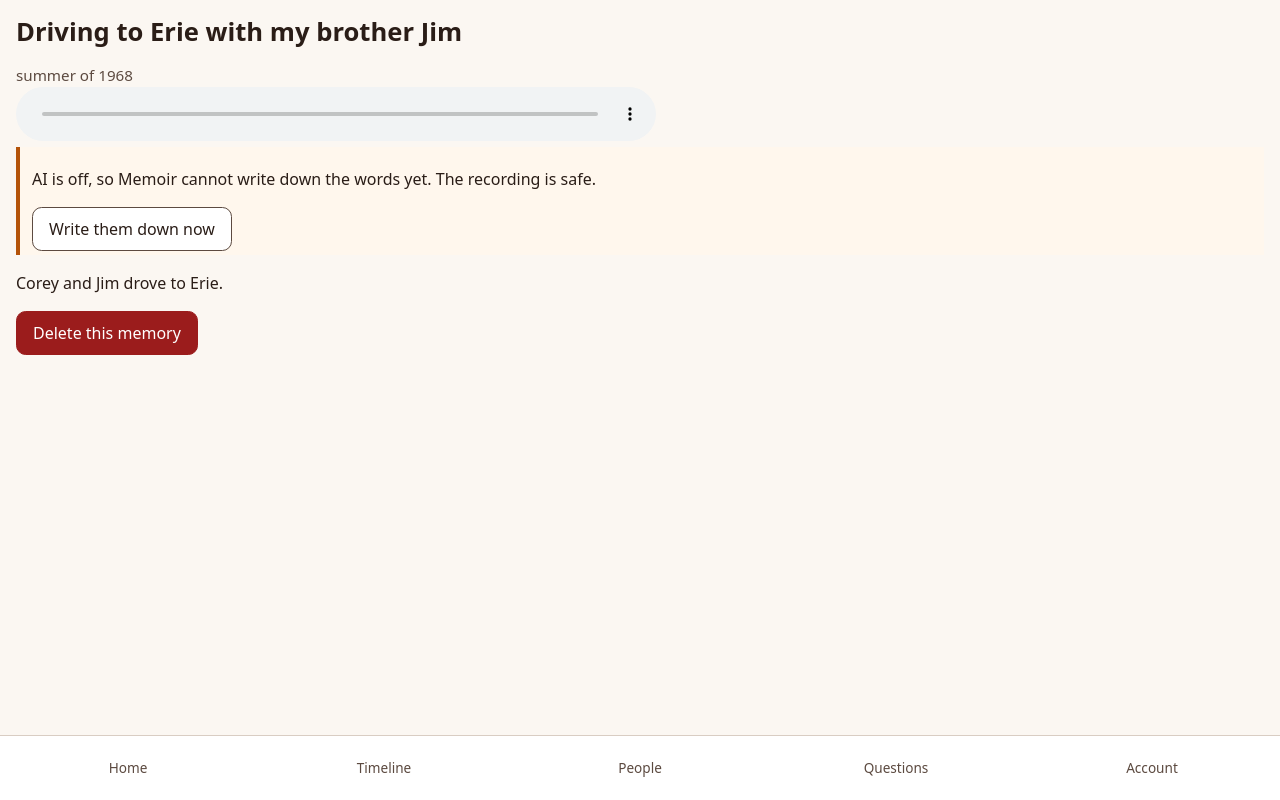
Test: with AI off it says the recording is safe and can run later
Expected: the text "AI is off" shows "The recording is safe.", [32, 168, 596, 190]
Click the button "Write them down now".
click(132, 229)  # box [32, 207, 232, 251]
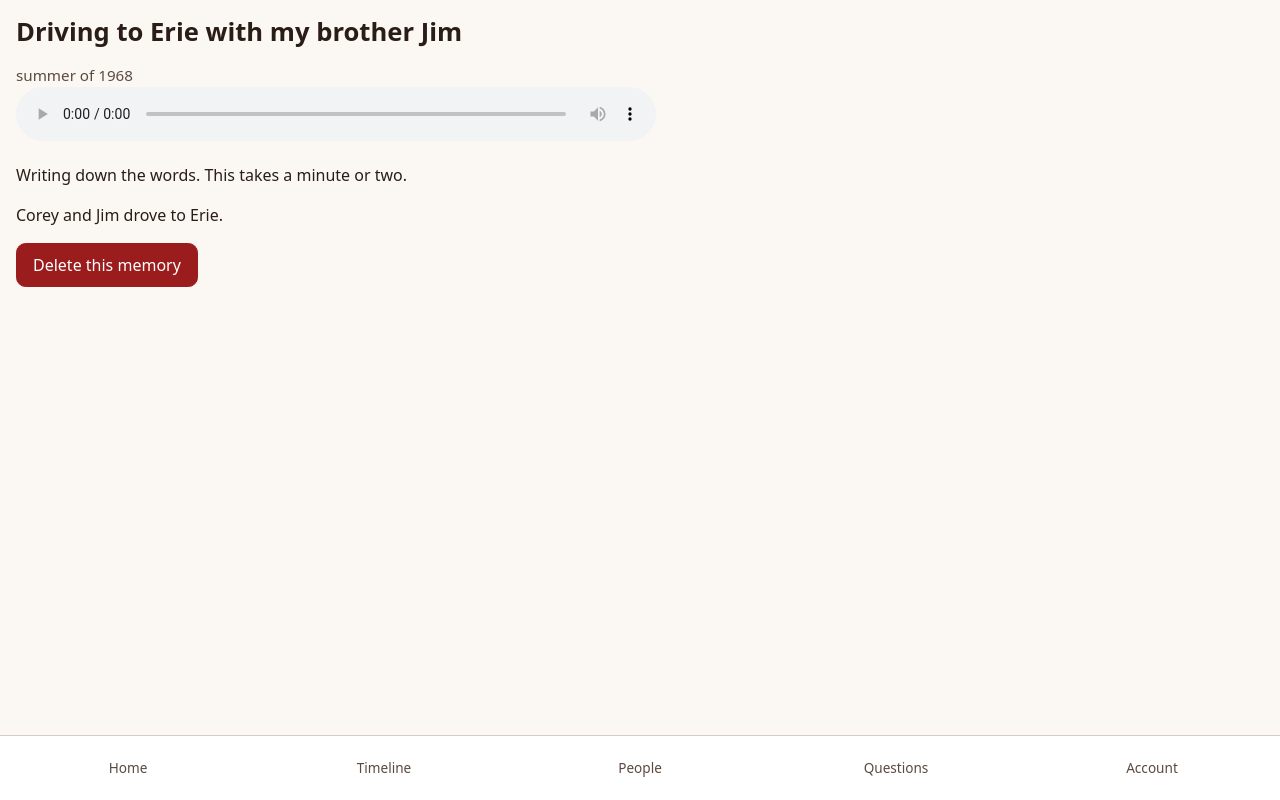
Now the text "Writing down the words. This takes a minute or two." is shown, box [16, 164, 407, 186]
